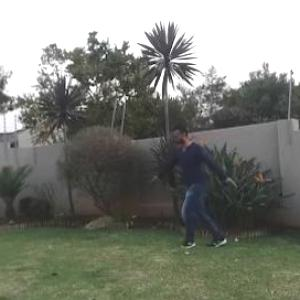land: (134, 106, 266, 267)
